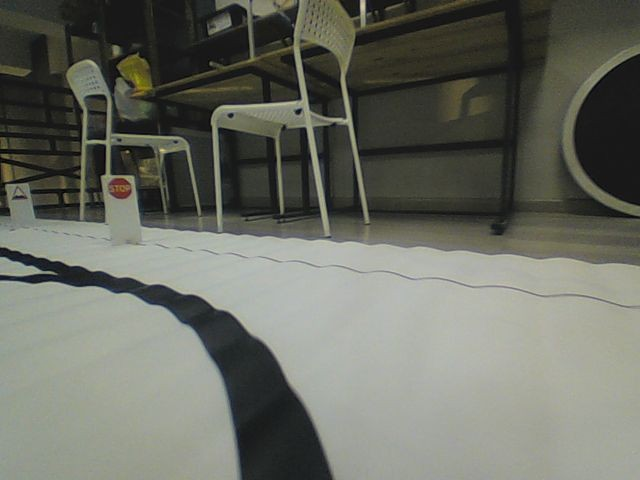Nerov: (10, 184, 29, 201)
Stop: (107, 177, 132, 200)
